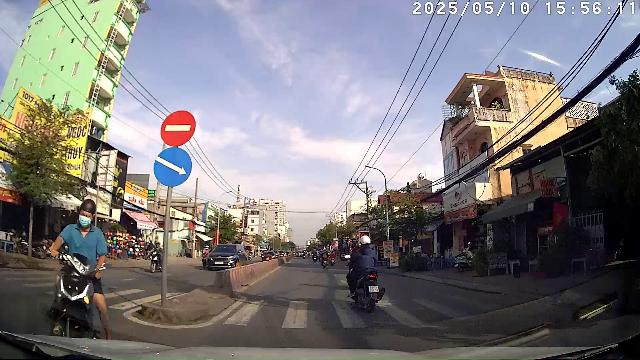102-cam-di-nguoc-chieu: (160, 110, 196, 147)
302a-huong-phai-di-vong-chuong-ngai-vat-1: (153, 146, 192, 187)
